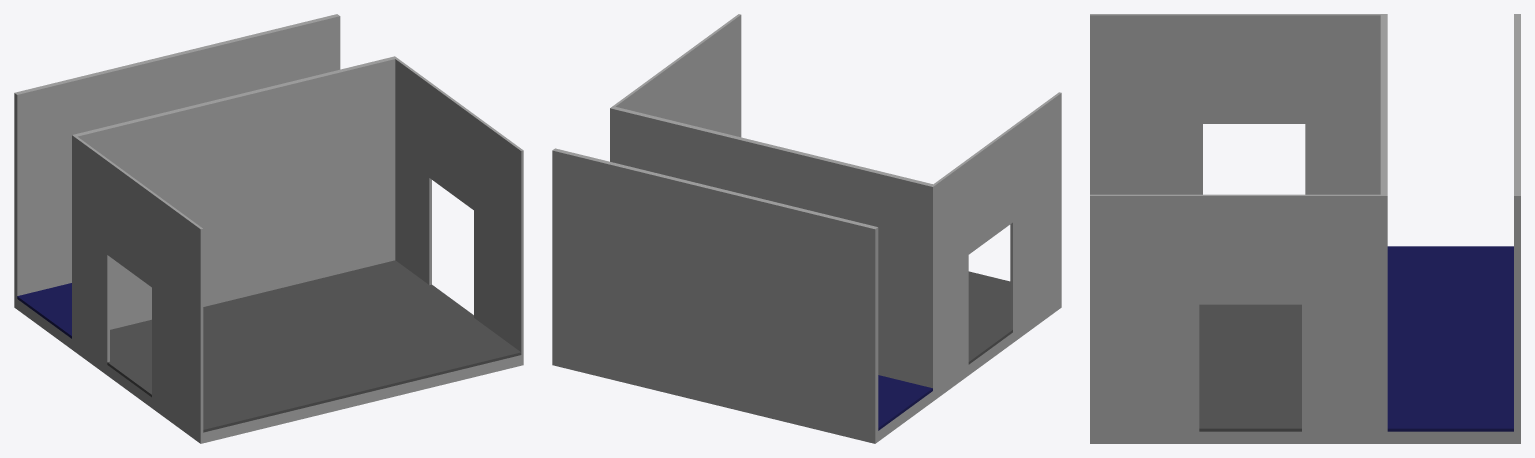
The model's file is 4x2 first-4.obj.
The picture shows the model from 3 angles, left to right: view 1: azimuth 30°, elevation 25°; view 2: azimuth 150°, elevation 25°; view 3: azimuth 270°, elevation 25°; orthographic projection. The views are drawn at different scales.
Visible parts, largest first — view 1: 4x2 first-4; view 2: 4x2 first-4; view 3: 4x2 first-4.
Boxes of the visible parts, box(x1,y1,x2,y2) form: 4x2 first-4: box(14, 14, 523, 443); 4x2 first-4: box(552, 14, 1061, 443); 4x2 first-4: box(1090, 14, 1520, 443).
Size of the model in its own units: 126 by 80 by 126.
Materials: 1 (1 with a texture image).
